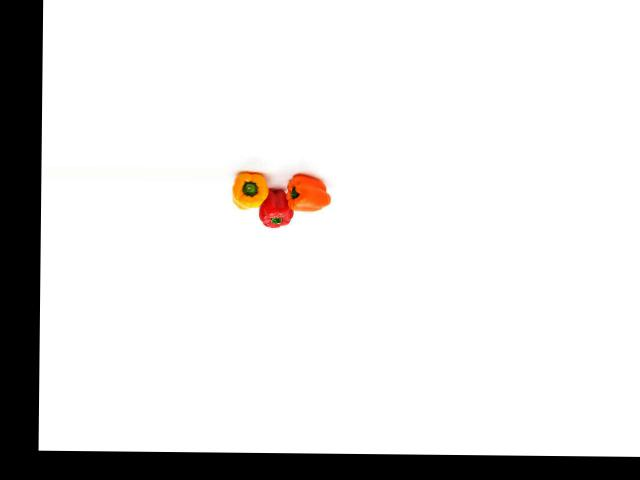bell_pepper: (229, 171, 273, 211)
